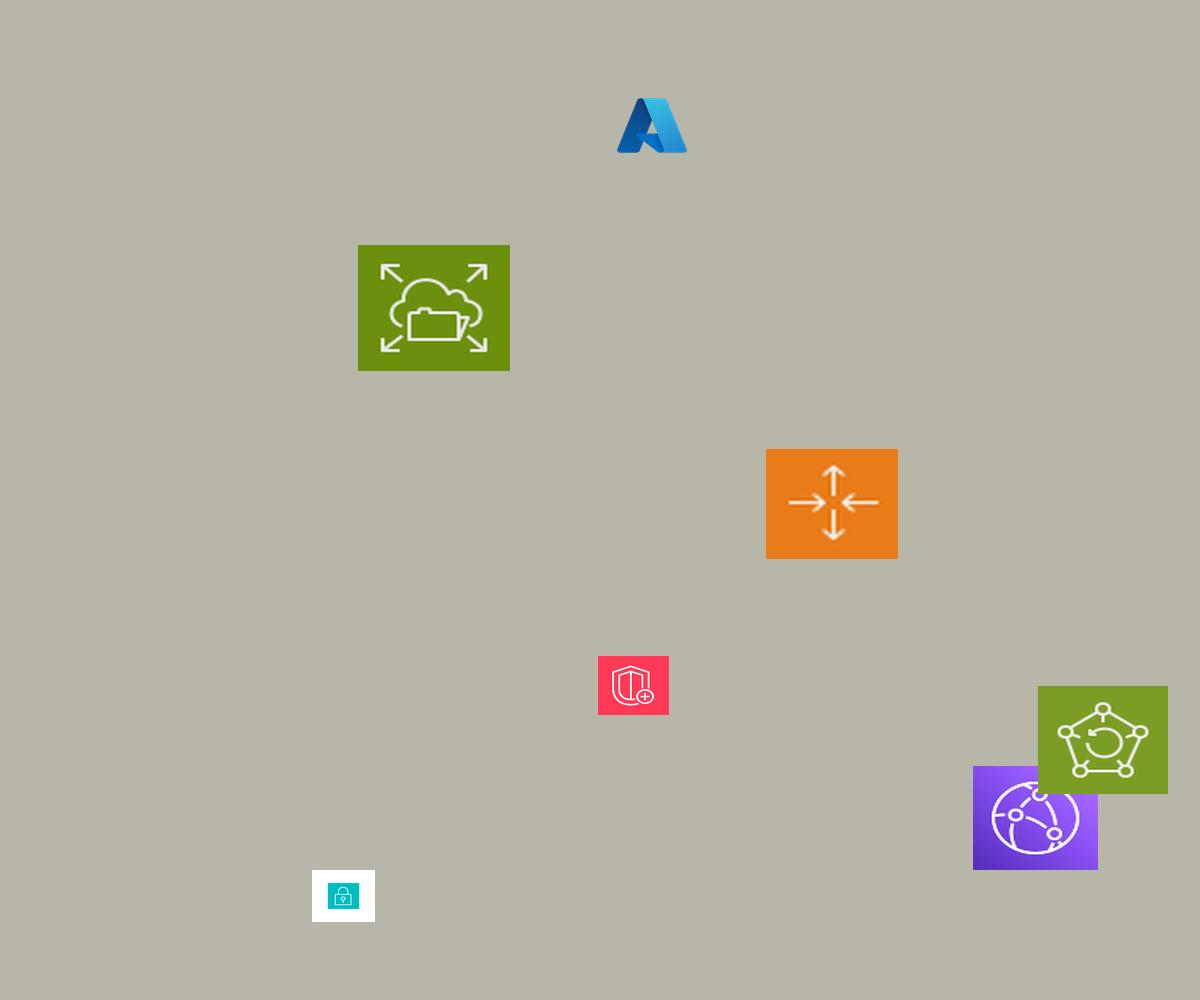AWS-Backup: (1038, 686, 1168, 794)
AWS-CloudFront: (973, 766, 1098, 870)
AWS-EFS: (358, 245, 510, 371)
AWS-Private-subnet: (312, 870, 375, 922)
AWS-Scaling-group: (766, 449, 898, 559)
AWS-Shield: (598, 656, 669, 715)
Azure_services: (614, 94, 690, 157)
